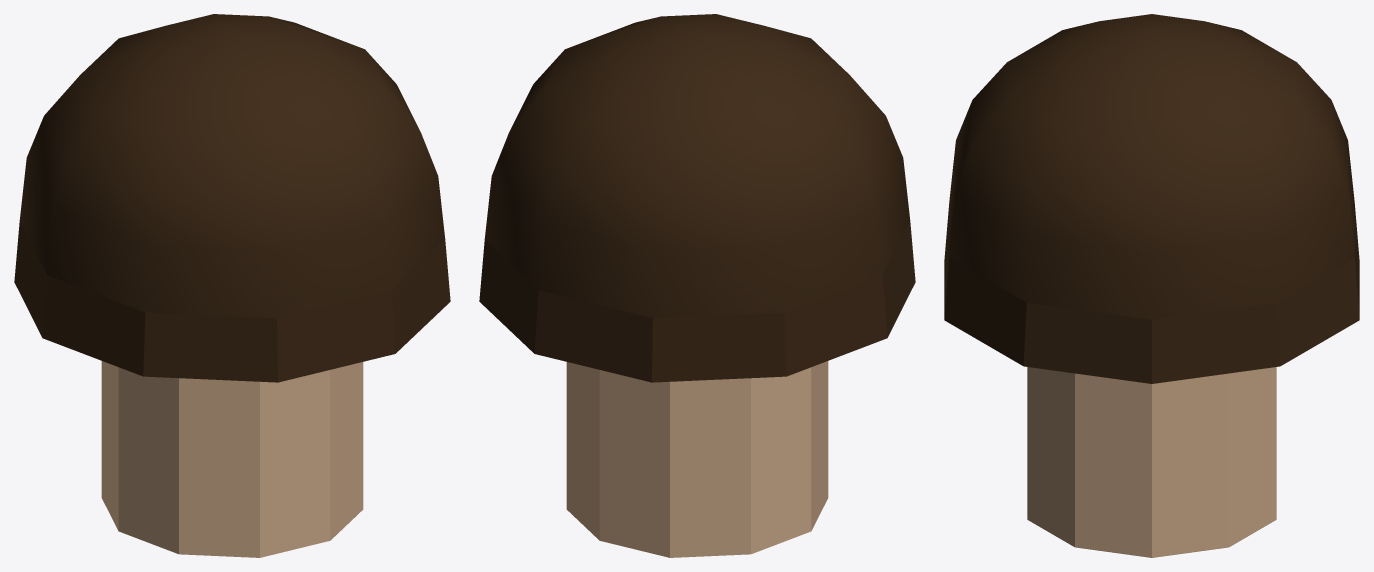
File: roundMushroom.fbx
3 renders of one model, left to right at view 1: azimuth 30°, elevation 25°; view 2: azimuth 150°, elevation 25°; view 3: azimuth 270°, elevation 25°, orthographic.
Visible parts, largest first — view 1: pCylinder4; view 2: pCylinder4; view 3: pCylinder4.
Boxes of the visible parts, x1=… form: pCylinder4: x1=14, y1=14, x2=450, y2=557; pCylinder4: x1=479, y1=14, x2=915, y2=557; pCylinder4: x1=944, y1=14, x2=1359, y2=557.
Size of the model in its own units: 4.81 by 5.71 by 4.58.
Materials: 1 (1 with a texture image).
